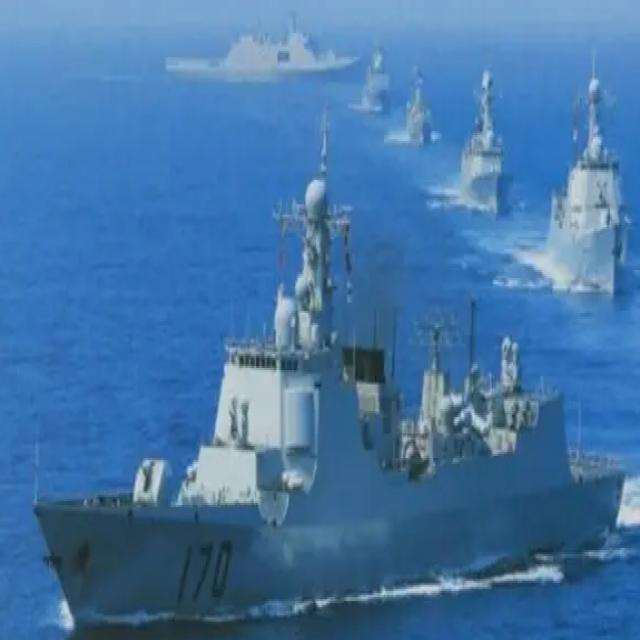navalvessels: (31, 166, 628, 640), (540, 52, 626, 301), (165, 11, 362, 89), (453, 63, 518, 202), (405, 56, 433, 158), (362, 41, 396, 122)
